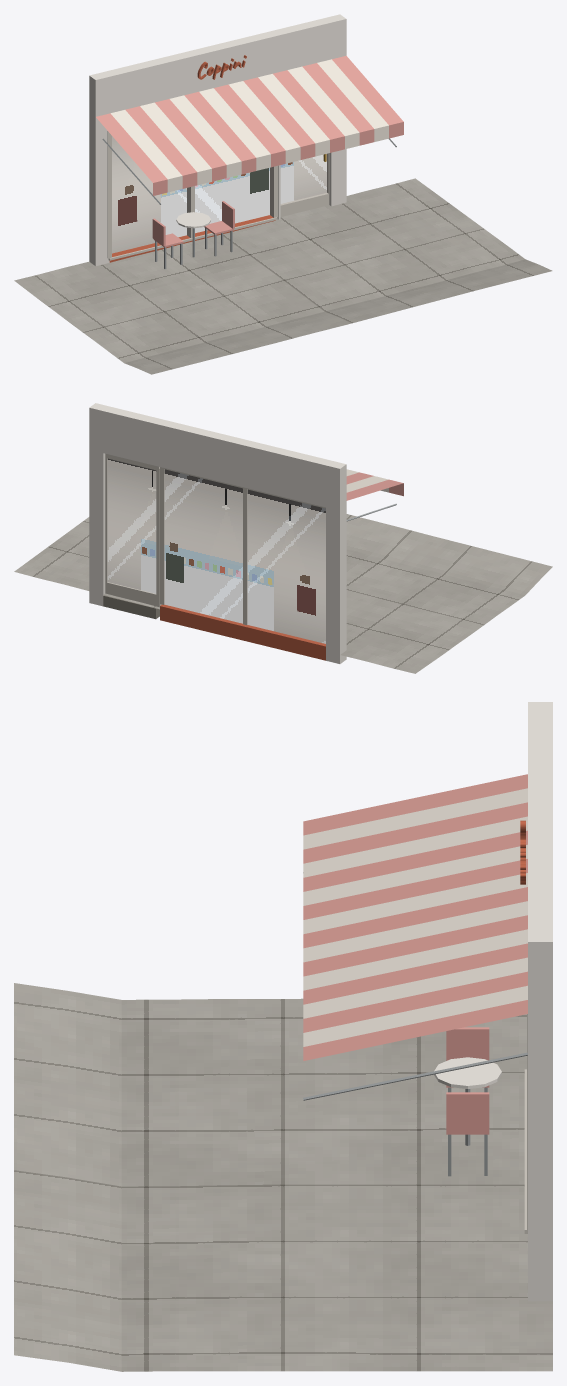
File: coppini_gelato.glb
3 views of the same model, one above another, from view 1: azimuth 30°, elevation 25°; view 2: azimuth 150°, elevation 25°; view 3: azimuth 270°, elevation 25° (orthographic). The views are drawn at different scales.
Visible parts, largest first — view 1: CoppiniGelato; view 2: CoppiniGelato; view 3: CoppiniGelato.
Part boxes in pixels (x1=…): CoppiniGelato: x1=14, y1=14, x2=552, y2=374; CoppiniGelato: x1=14, y1=403, x2=552, y2=673; CoppiniGelato: x1=14, y1=702, x2=552, y2=1371.
Size of what is drawn, in the model's own units: 8 by 3.72 by 4.75.
Materials: 13 (2 with a texture image).
